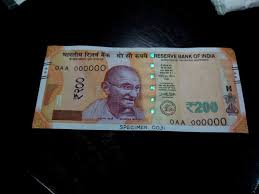twoHundred: (53, 60, 229, 116)
